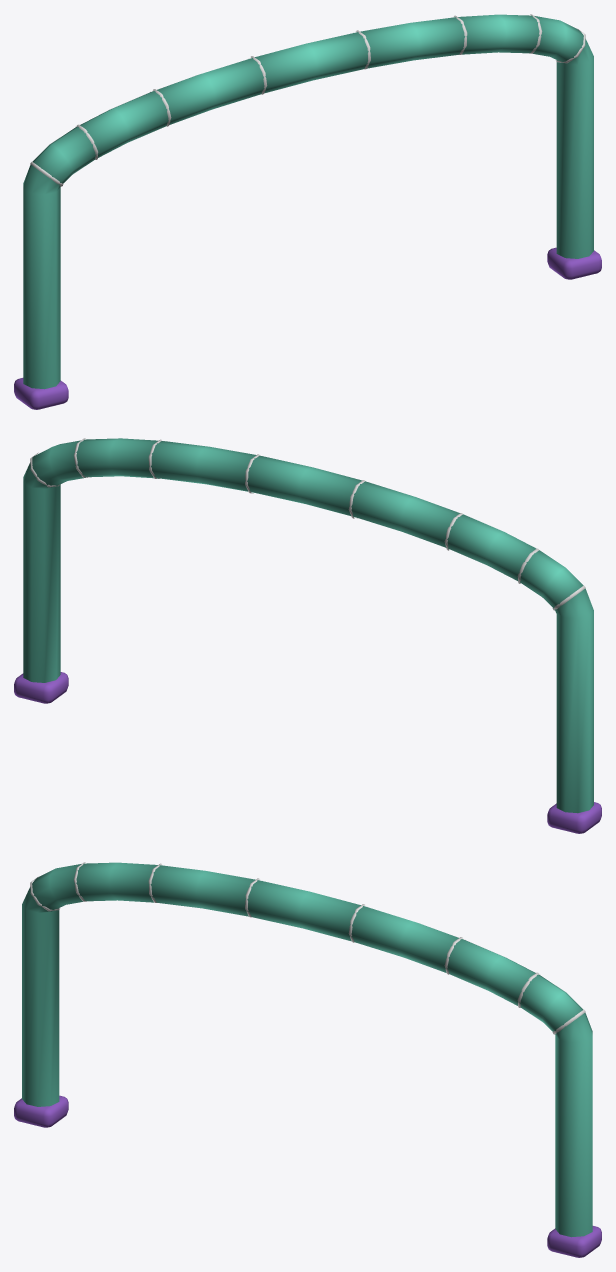
File: start_arch.glb
3 renders of one model, top to bottom at view 1: azimuth 30°, elevation 25°; view 2: azimuth 150°, elevation 25°; view 3: azimuth 330°, elevation 25°, orthographic.
Visible parts, largest first — view 1: start_arch; view 2: start_arch; view 3: start_arch.
Part boxes in pixels (<box>): start_arch: <box>14,14,601,409</box>; start_arch: <box>14,438,601,833</box>; start_arch: <box>14,862,601,1257</box>.
Bounding box in the file's own units: 24 × 11.69 × 1.6.
